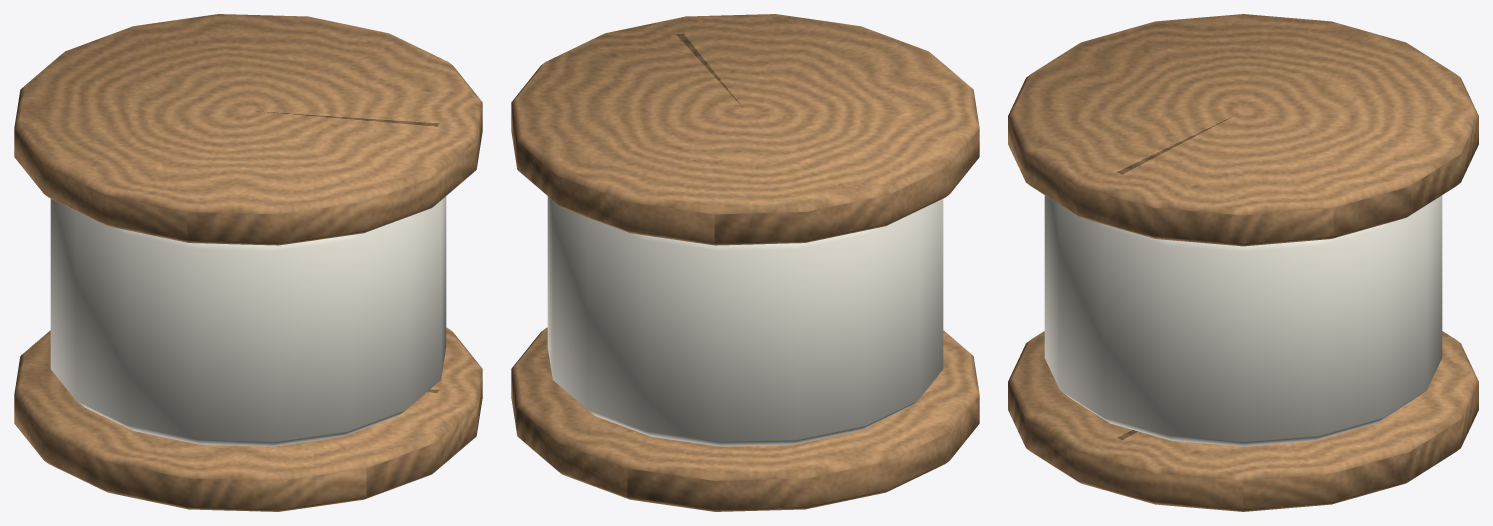
The model's file is thread_spool.glb.
The picture shows the model from 3 angles, left to right: view 1: azimuth 30°, elevation 25°; view 2: azimuth 150°, elevation 25°; view 3: azimuth 270°, elevation 25°; orthographic projection.
Parts seen in each view (by area): view 1: thread_spool; view 2: thread_spool; view 3: thread_spool.
Boxes of the visible parts, box(x1,y1,x2,y2) form: thread_spool: box(14, 14, 482, 511); thread_spool: box(511, 14, 979, 511); thread_spool: box(1008, 14, 1478, 511).
Bounding box in the file's own units: 0.09 × 0.064 × 0.09.
2 materials, 2 textured.
